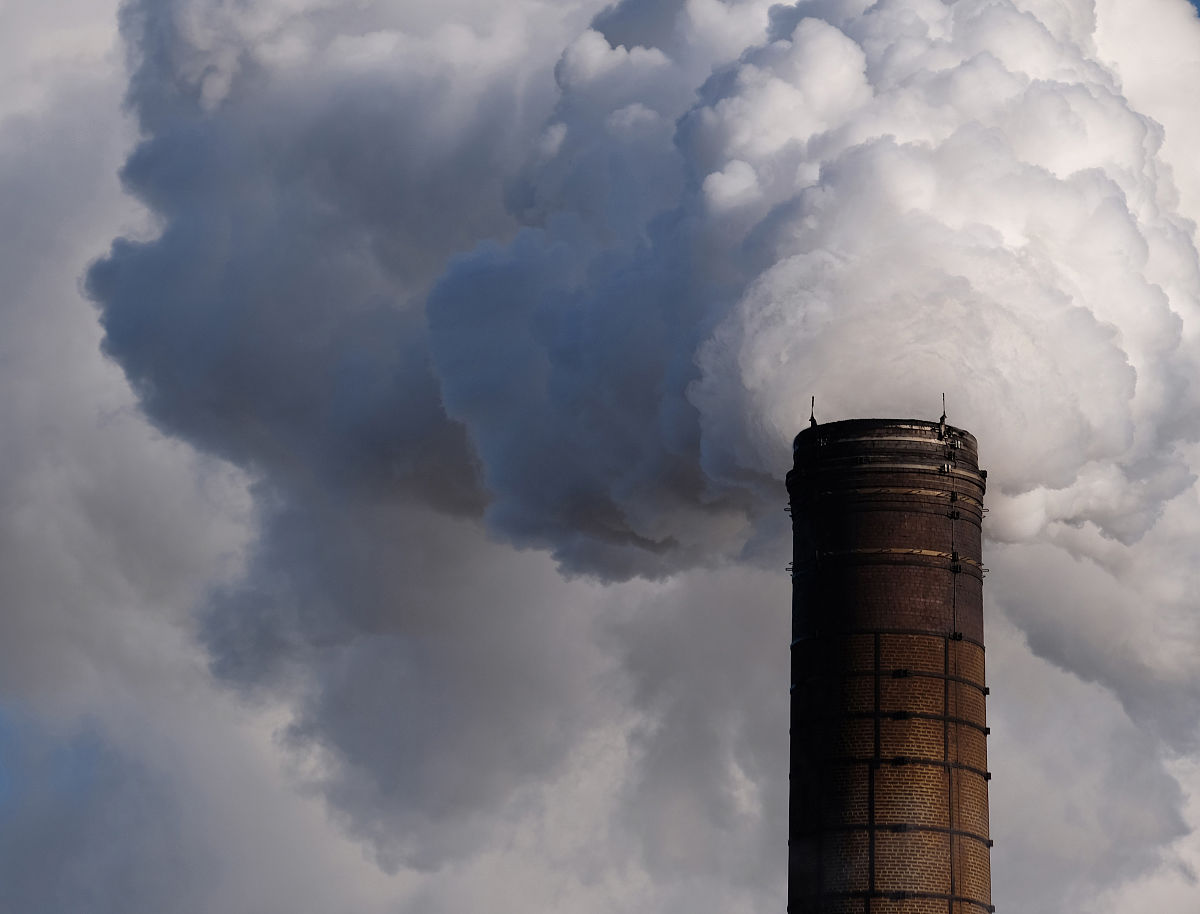dust: (510, 62, 1184, 568)
